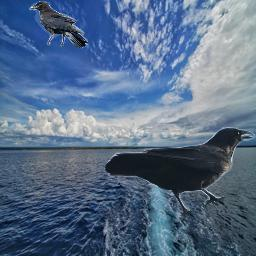Crow: (104, 127, 256, 216), (29, 1, 88, 48)
